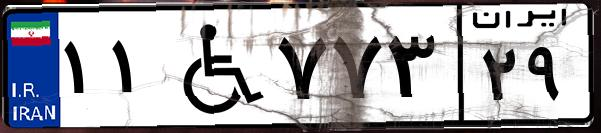1: (57, 26, 110, 100), (110, 28, 158, 98)
2: (475, 38, 525, 113)
3: (385, 28, 445, 110)
7: (270, 28, 330, 110), (330, 28, 385, 110)
9: (525, 38, 570, 115)
ژ (معلولین و جانبازان): (158, 12, 270, 120)
